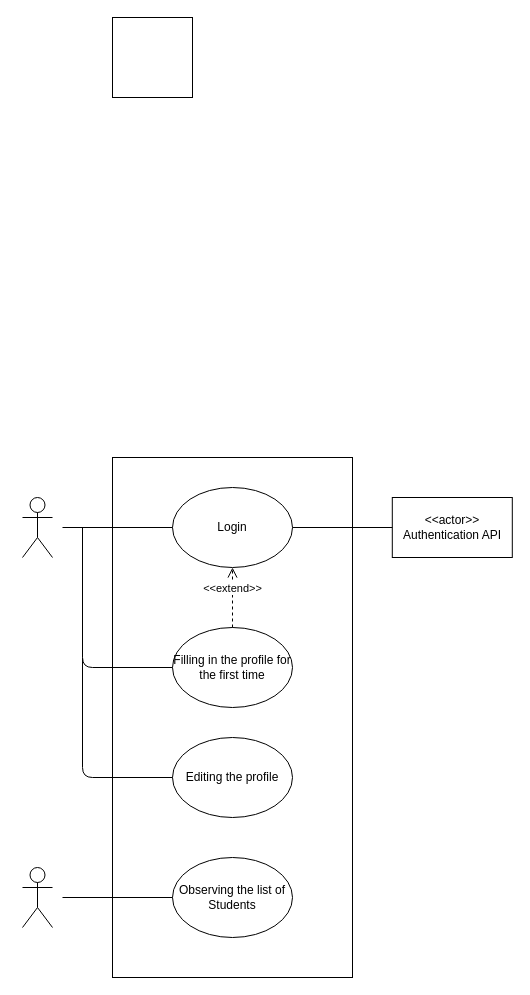
Image size: 530x995. Some labels were removed from this diagram. Each missing label, with the centre of its shape:
"Admin" goes at (37,897).
"Student" goes at (37,527).
